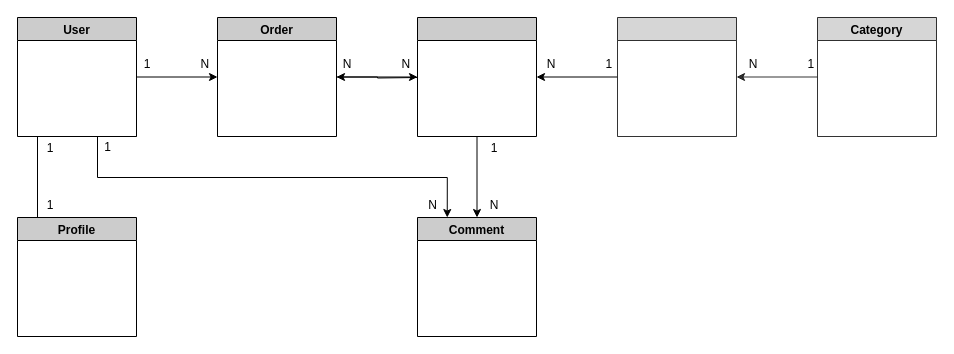
Image size: 954x354. Some labels were removed from this diagram. Here are the shapes that lost their labels. From the top down, the box of each, then its label:
(416, 16, 536, 136): Product
(616, 16, 736, 136): Sub-category
